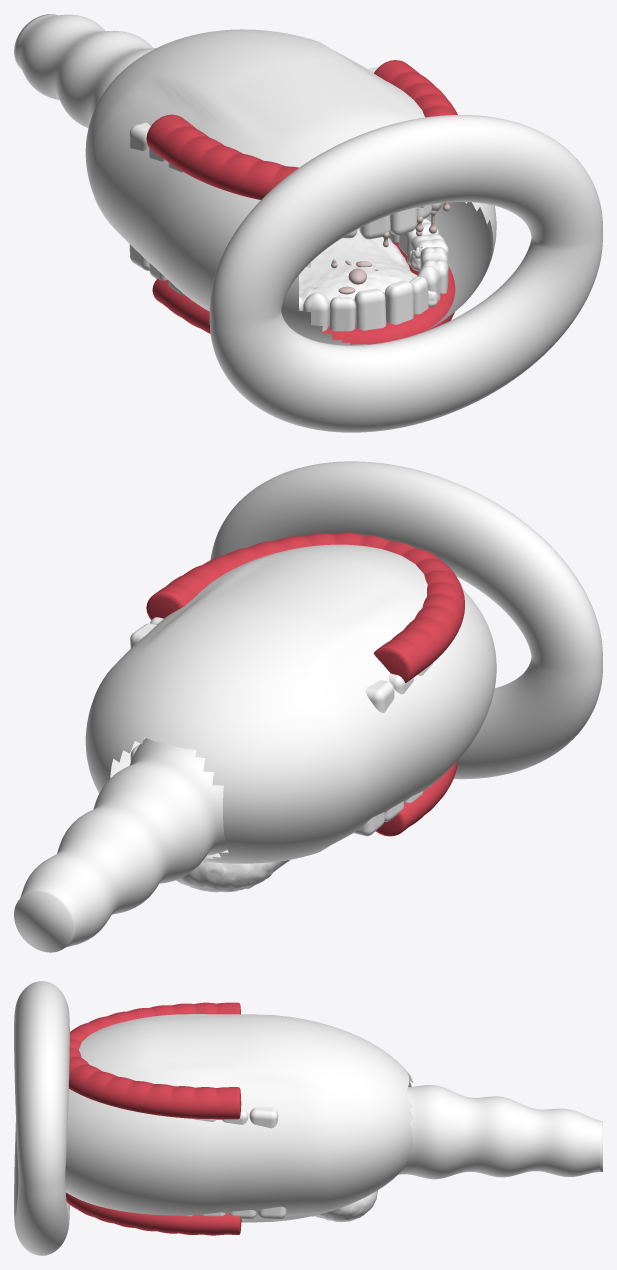
Rendered from MouthScene.glb.
3 renders of one model, top to bottom at view 1: azimuth 30°, elevation 25°; view 2: azimuth 150°, elevation 25°; view 3: azimuth 270°, elevation 25°, orthographic. The views are drawn at different scales.
Parts seen in each view (by area): view 1: Lips, MouthCavity, Throat, Gum_Upper, Tongue, Gum_Lower, Tooth_lower_L1_incisor, Tooth_lower_R1_incisor, Tooth_lower_L2_lateral, Tooth_lower_L3_canine, Tooth_upper_R1_incisor, Tooth_lower_R2_lateral; view 2: MouthCavity, Lips, Throat, Gum_Upper, Tongue, Gum_Lower, Tooth_upper_L10_molar; view 3: MouthCavity, Throat, Lips, Gum_Upper, Gum_Lower, Tongue, Tooth_upper_R10_molar.
Boxes of the visible parts, x1,y1,x2,y2 form: Lips: (209, 115, 602, 432); MouthCavity: (85, 29, 496, 345); Throat: (14, 14, 156, 128); Gum_Upper: (146, 60, 457, 199); Tongue: (299, 228, 417, 302); Gum_Lower: (152, 242, 455, 344); Tooth_lower_L1_incisor: (354, 288, 386, 330); Tooth_lower_R1_incisor: (385, 280, 413, 324); Tooth_lower_L2_lateral: (329, 296, 355, 331); Tooth_lower_L3_canine: (303, 292, 329, 331); Tooth_upper_R1_incisor: (390, 207, 416, 235); Tooth_lower_R2_lateral: (409, 276, 428, 314); MouthCavity: (85, 544, 496, 863); Lips: (210, 461, 602, 779); Throat: (14, 738, 227, 952); Gum_Upper: (146, 532, 464, 682); Tongue: (176, 850, 289, 892); Gum_Lower: (375, 761, 457, 836); Tooth_upper_L10_molar: (365, 680, 394, 712); MouthCavity: (65, 1014, 413, 1222); Throat: (398, 1085, 602, 1179); Lips: (14, 981, 69, 1255); Gum_Upper: (69, 1002, 241, 1119); Gum_Lower: (66, 1192, 241, 1235); Tongue: (311, 1190, 377, 1222); Tooth_upper_R10_molar: (249, 1107, 278, 1128).
Size of the model in its own units: 28.35 by 20.93 by 48.34.
